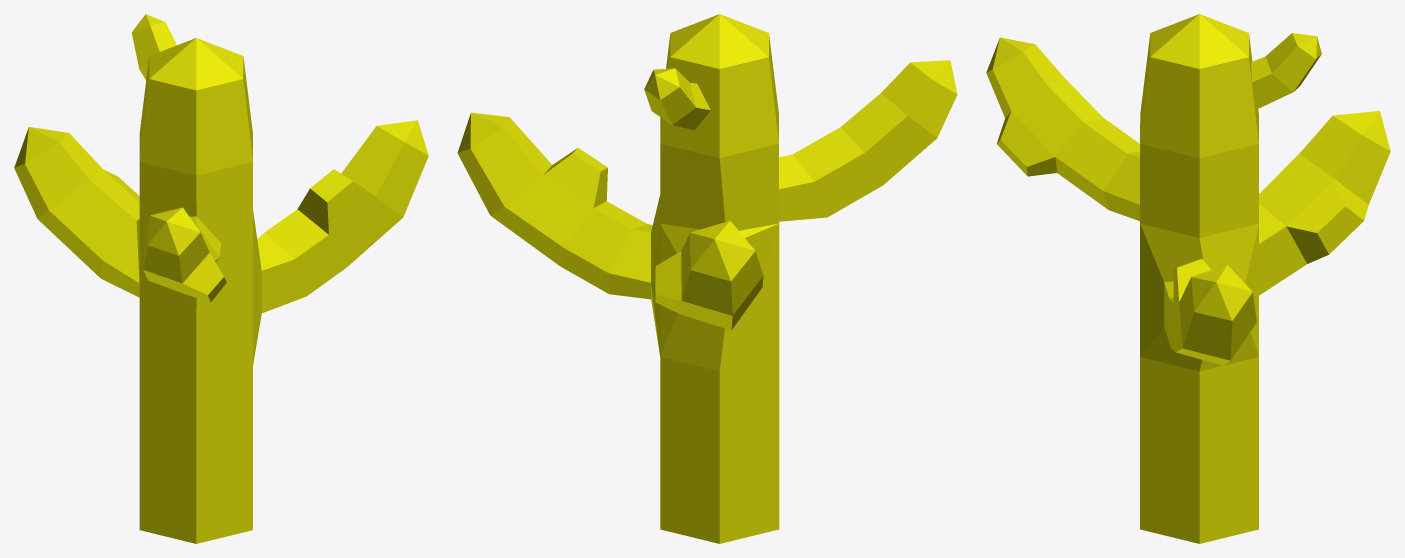
The model's file is trp_coral3.glb.
3 renders of one model, left to right at view 1: azimuth 30°, elevation 25°; view 2: azimuth 150°, elevation 25°; view 3: azimuth 270°, elevation 25°, orthographic. The views are drawn at different scales.
Parts seen in each view (by area): view 1: SM_Prop_Coral_03; view 2: SM_Prop_Coral_03; view 3: SM_Prop_Coral_03.
Part boxes in pixels (x1,y1,x2,y2): SM_Prop_Coral_03: (14,14,428,543); SM_Prop_Coral_03: (457,14,957,543); SM_Prop_Coral_03: (986,14,1390,543).
Size of the model in its own units: 0.2081 by 0.2552 by 0.1868.
Materials: 1 (1 with a texture image).
